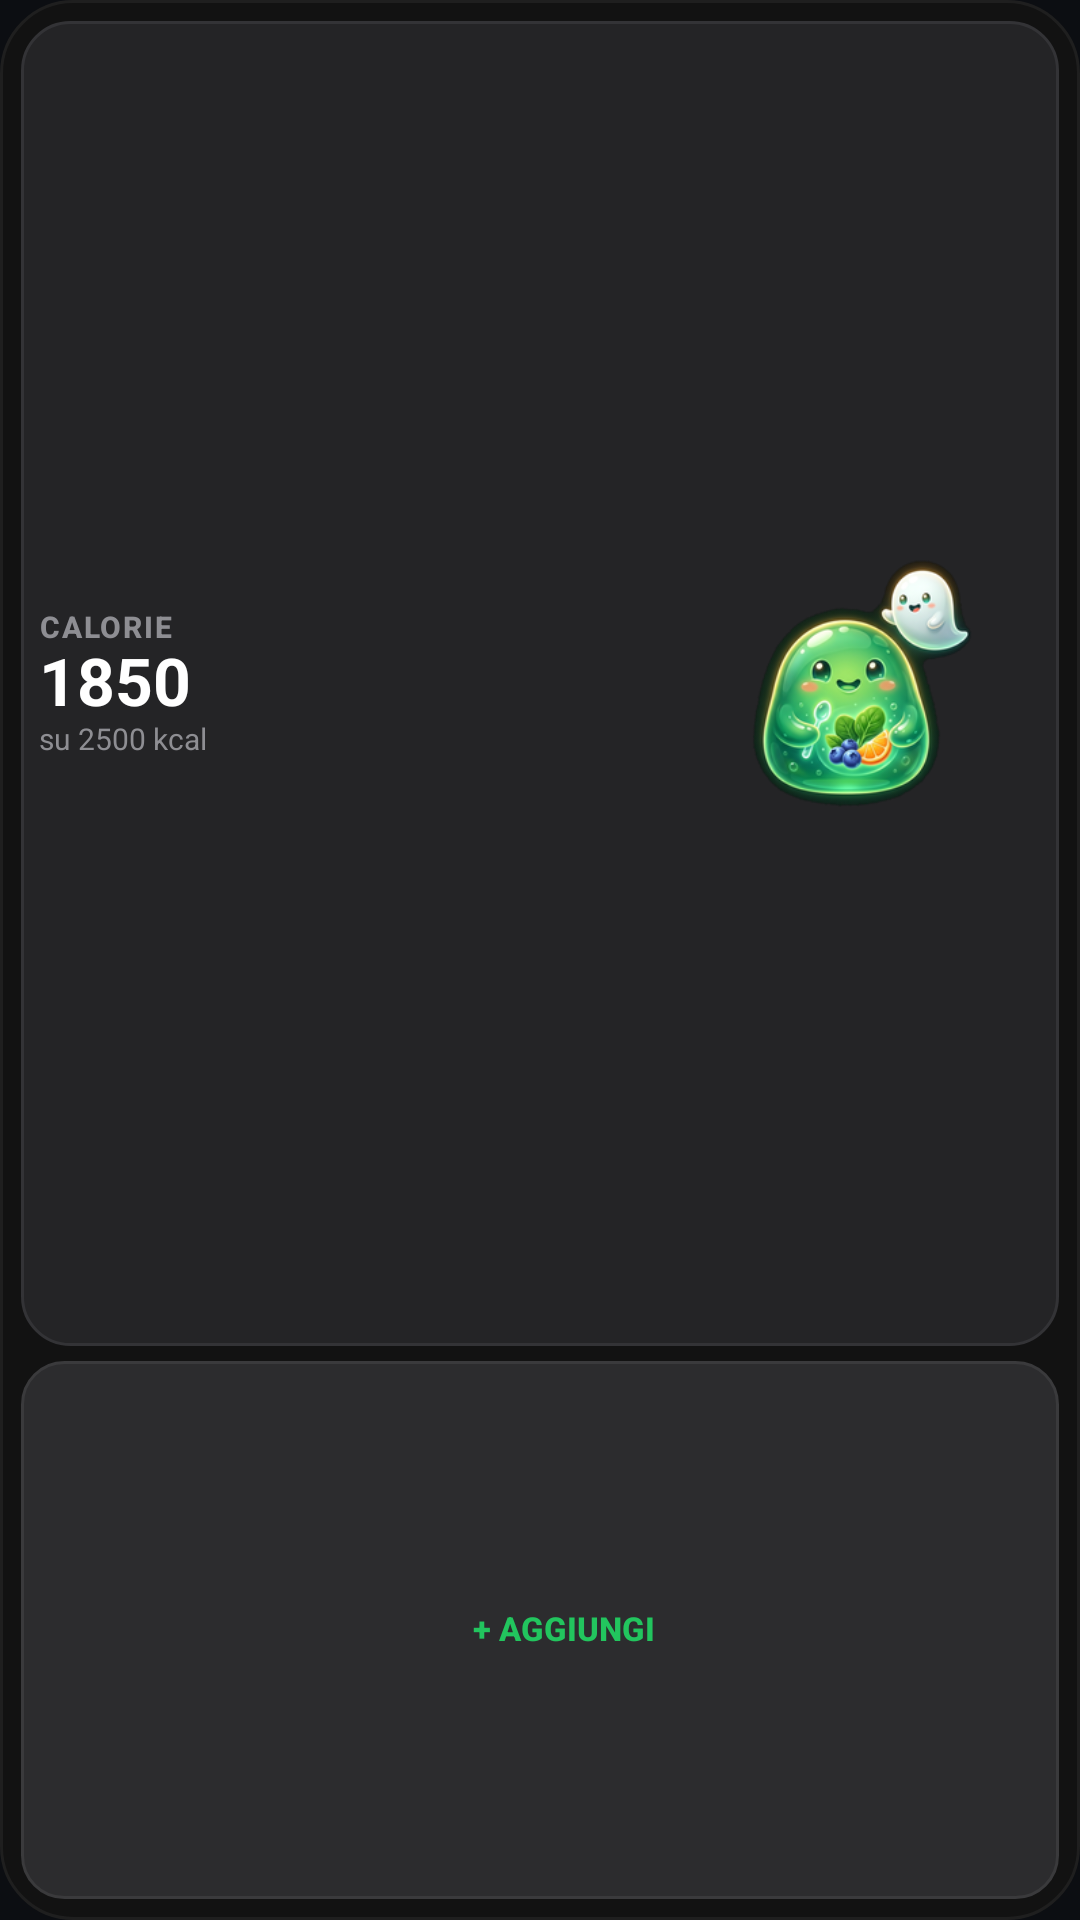

Point at icon controls on the screen. Image size 1080 x 1920, points as (x,y).
Stato Mascotte: (865,682)
